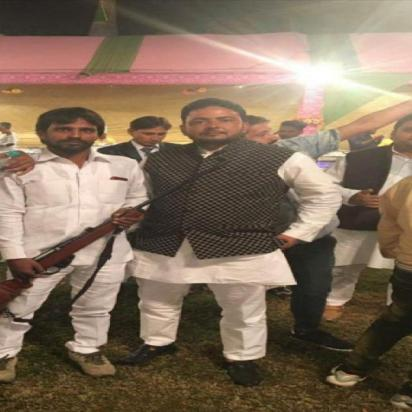Gun: (0, 154, 234, 312)
